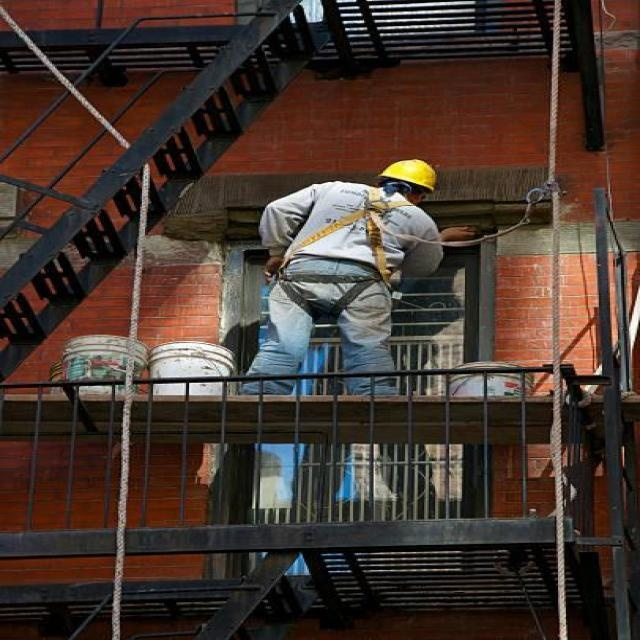Arnes_seguridad: (272, 185, 417, 319)
